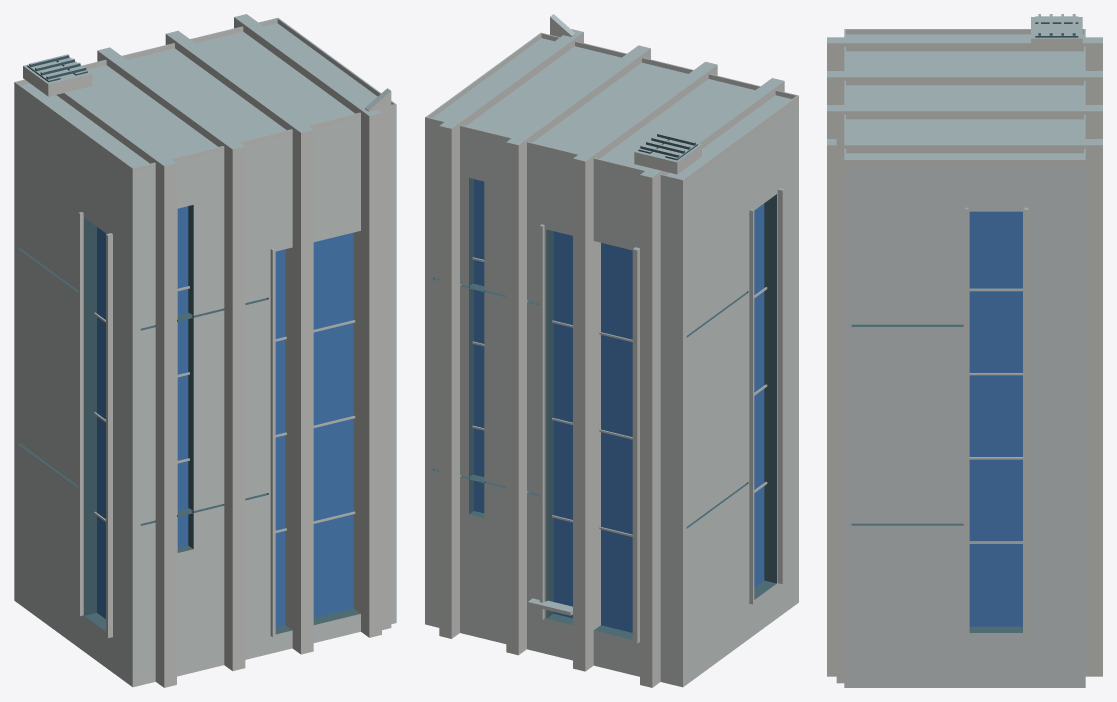
File: 16_Lamellenhaus.obj
The picture shows the model from 3 angles, left to right: view 1: azimuth 30°, elevation 25°; view 2: azimuth 150°, elevation 25°; view 3: azimuth 270°, elevation 25°; orthographic projection. The views are drawn at different scales.
Size of the model in its own units: 0.533 by 1 by 0.456.
